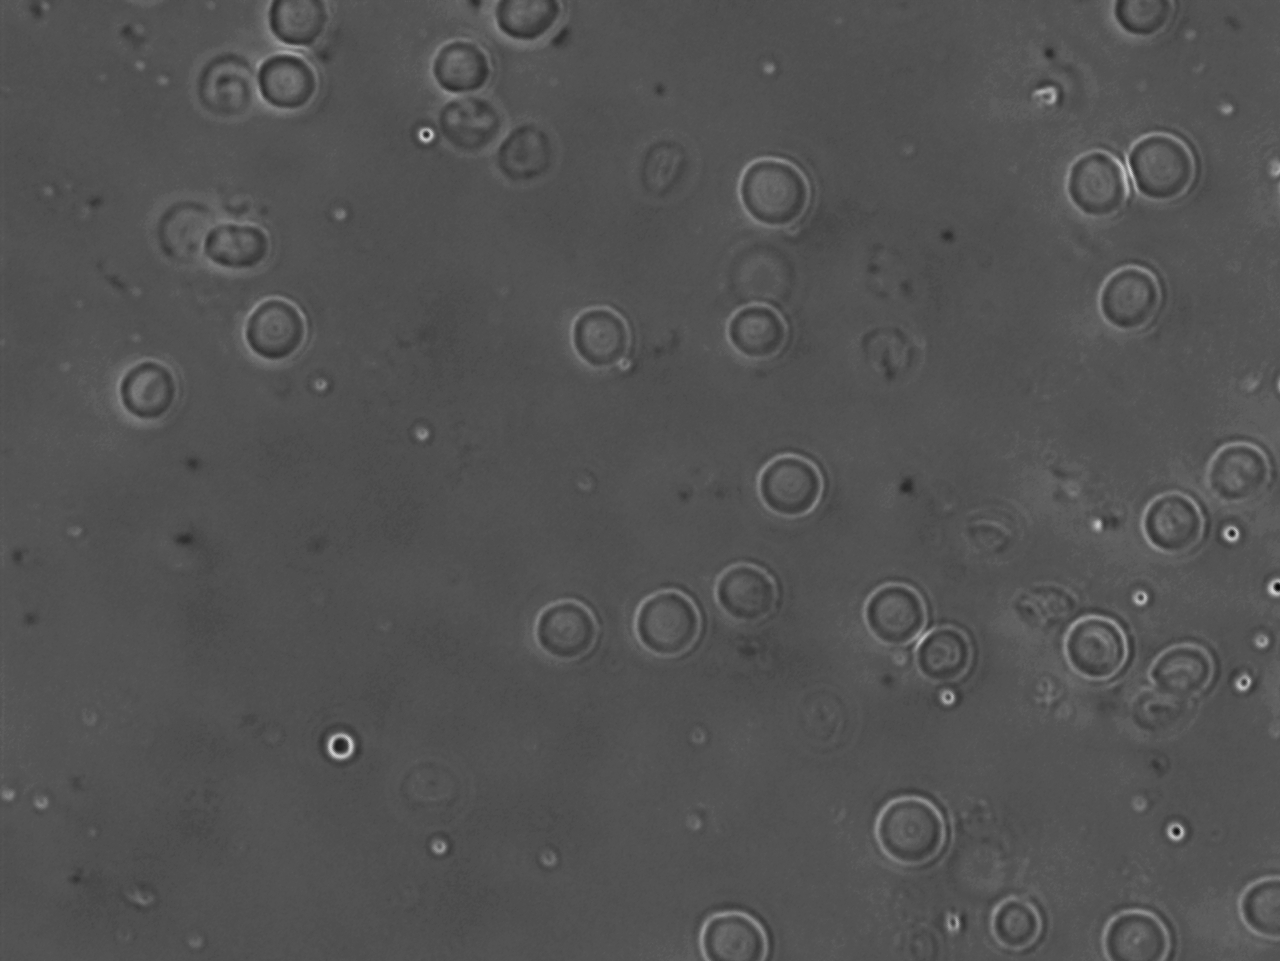depth:0: (863, 785, 962, 876), (619, 580, 708, 675), (1087, 253, 1182, 342), (1055, 137, 1145, 229), (727, 146, 822, 232), (749, 445, 838, 536), (557, 287, 648, 376), (853, 568, 946, 652), (1196, 416, 1280, 507), (1115, 118, 1199, 208), (1050, 605, 1141, 687), (248, 41, 333, 129), (1135, 480, 1221, 565), (235, 285, 319, 370), (518, 585, 608, 665), (108, 347, 191, 433), (700, 551, 786, 630), (906, 614, 988, 693), (423, 33, 503, 115), (715, 295, 799, 367), (687, 902, 788, 961), (1095, 898, 1182, 961), (1226, 866, 1280, 945)
